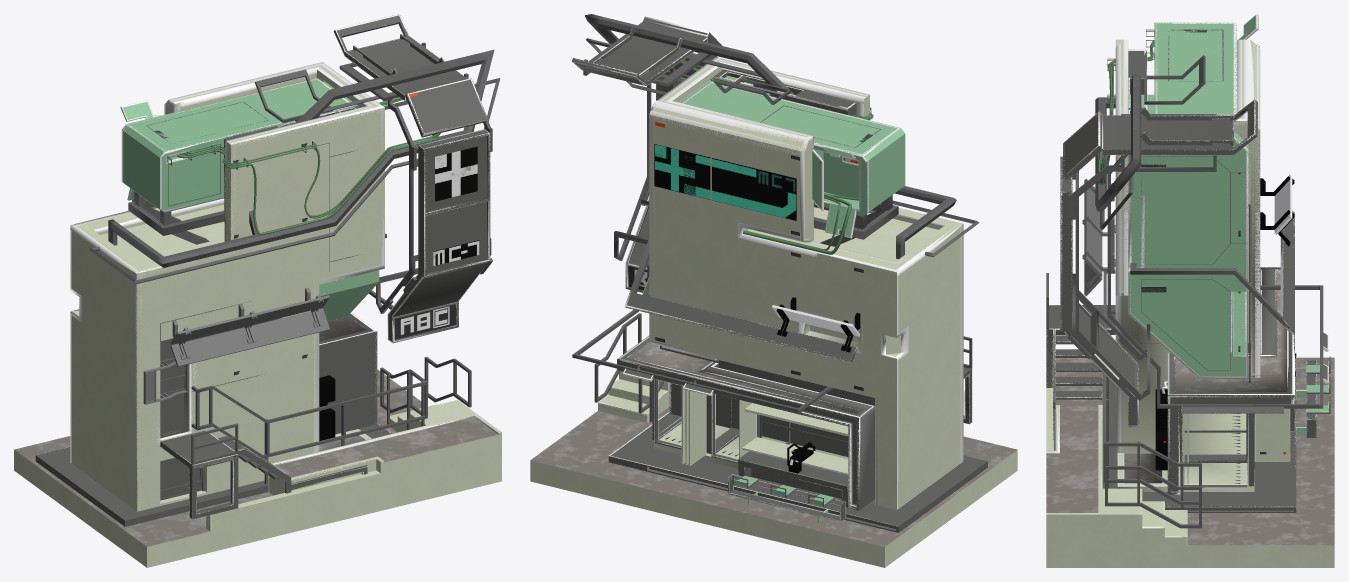
The model's file is Building.fbx.
3 views of the same model, side by side, from view 1: azimuth 30°, elevation 25°; view 2: azimuth 150°, elevation 25°; view 3: azimuth 270°, elevation 25° (orthographic). The views are drawn at different scales.
Parts seen in each view (by area): view 1: MainBuilding_Gameready, Floor_Gameready, SignBoard_Gameready, FrontCover_Gameready, SwitchBoard_Gameready, Handle_Gameready; view 2: MainBuilding_Gameready, Floor_Gameready, SignBoard_Gameready, Bench_Gameready, BackCover_Gameready; view 3: Floor_Gameready, MainBuilding_Gameready, SignBoard_Gameready, FrontCover_Gameready, Bench_Gameready, BackCover_Gameready, SwitchBoard_Gameready.
Boxes of the visible parts, bbox=[...] form: MainBuilding_Gameready: bbox=[70, 49, 500, 511]; Floor_Gameready: bbox=[14, 312, 501, 567]; SignBoard_Gameready: bbox=[333, 14, 492, 343]; FrontCover_Gameready: bbox=[170, 288, 329, 366]; SwitchBoard_Gameready: bbox=[319, 375, 335, 440]; Handle_Gameready: bbox=[143, 361, 188, 404]; MainBuilding_Gameready: bbox=[572, 14, 979, 509]; Floor_Gameready: bbox=[530, 313, 1017, 567]; SignBoard_Gameready: bbox=[571, 16, 722, 292]; Bench_Gameready: bbox=[728, 474, 845, 522]; BackCover_Gameready: bbox=[772, 297, 860, 352]; Floor_Gameready: bbox=[1046, 267, 1334, 567]; MainBuilding_Gameready: bbox=[1095, 14, 1328, 458]; SignBoard_Gameready: bbox=[1060, 99, 1257, 426]; FrontCover_Gameready: bbox=[1082, 179, 1114, 296]; Bench_Gameready: bbox=[1296, 356, 1330, 437]; BackCover_Gameready: bbox=[1260, 174, 1294, 246]; SwitchBoard_Gameready: bbox=[1155, 381, 1167, 470].
Size of the model in its own units: 1243 by 1206 by 730.
Materials: 16 (8 with a texture image).
